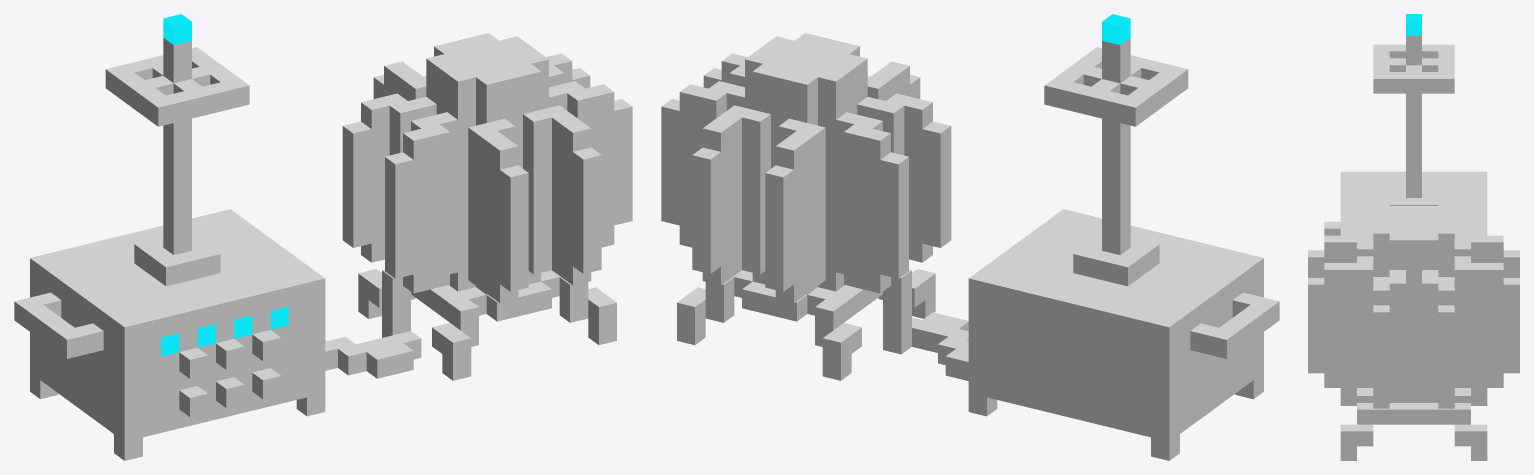
The model's file is SNAP-27  - copia.glb.
The picture shows the model from 3 angles, left to right: view 1: azimuth 30°, elevation 25°; view 2: azimuth 150°, elevation 25°; view 3: azimuth 270°, elevation 25°; orthographic projection. The views are drawn at different scales.
Visible parts, largest first — view 1: SNAP27_ALSEP_Voxel; view 2: SNAP27_ALSEP_Voxel; view 3: SNAP27_ALSEP_Voxel.
Boxes of the visible parts, x1=… form: SNAP27_ALSEP_Voxel: x1=14, y1=14, x2=632, y2=460; SNAP27_ALSEP_Voxel: x1=661, y1=14, x2=1279, y2=460; SNAP27_ALSEP_Voxel: x1=1308, y1=14, x2=1519, y2=460.
Bounding box in the file's own units: 3.1 × 2 × 1.3.
